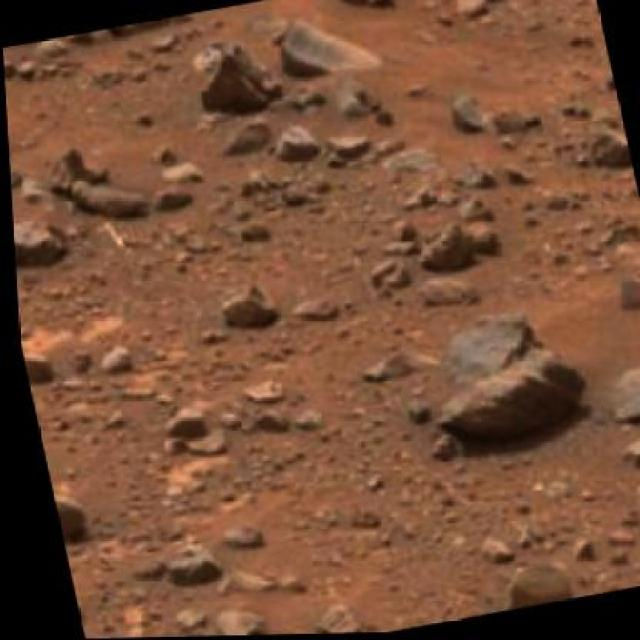rock: (419, 336, 592, 461), (187, 35, 288, 119), (10, 206, 78, 277), (490, 552, 572, 610), (45, 482, 92, 548)
